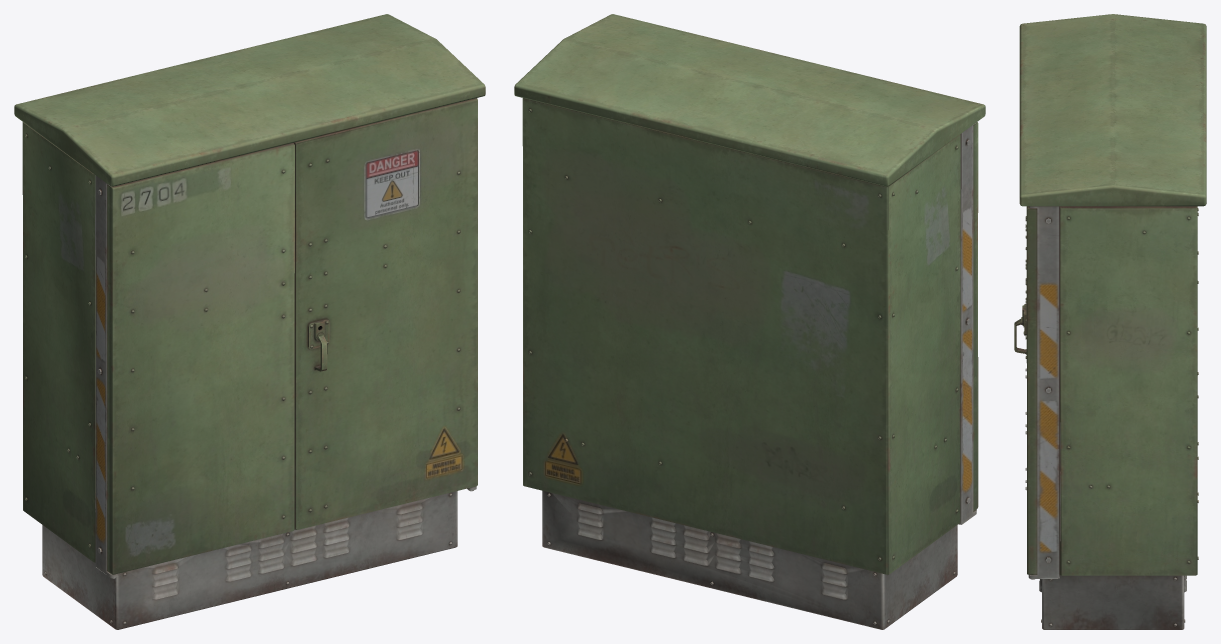
The model's file is utility_box_02.glb.
3 views of the same model, side by side, from view 1: azimuth 30°, elevation 25°; view 2: azimuth 150°, elevation 25°; view 3: azimuth 270°, elevation 25° (orthographic). The views are drawn at different scales.
Visible parts, largest first — view 1: utility_box_02; view 2: utility_box_02; view 3: utility_box_02.
Boxes of the visible parts, x1=… form: utility_box_02: x1=14, y1=14, x2=485, y2=629; utility_box_02: x1=514, y1=14, x2=985, y2=629; utility_box_02: x1=1014, y1=14, x2=1206, y2=629.
Bounding box in the file's own units: 0.92 × 1.12 × 0.432.
Materials: 1 (1 with a texture image).
